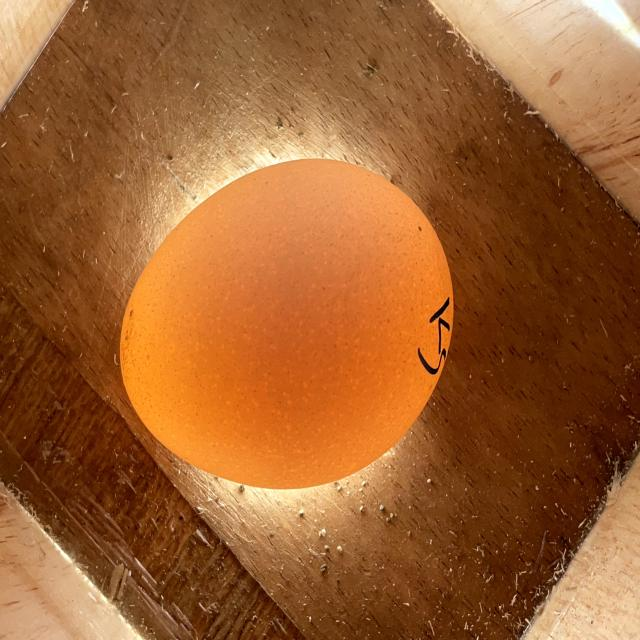infertile: (120, 158, 454, 488)
